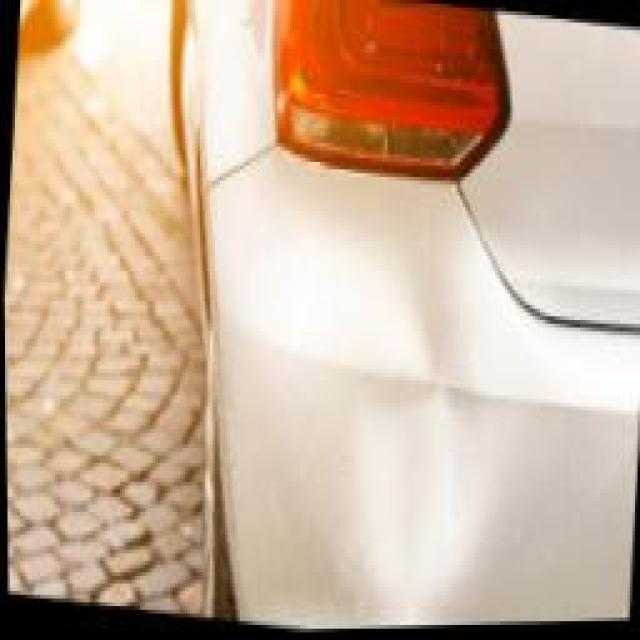Bumper: (308, 237, 519, 608)
